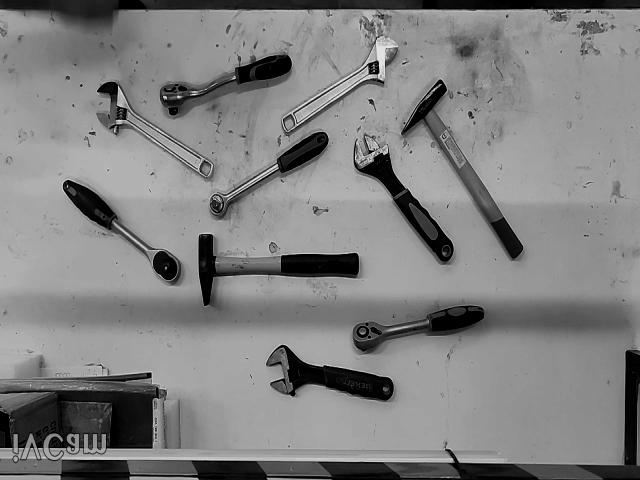Adjustable spanner: (353, 135, 454, 262), (97, 82, 214, 178), (282, 38, 398, 133), (268, 346, 394, 400)
Hammer: (402, 81, 522, 260), (199, 234, 359, 305)
Ratchet: (62, 180, 181, 285), (209, 132, 329, 217), (159, 54, 293, 117), (352, 305, 484, 351)
